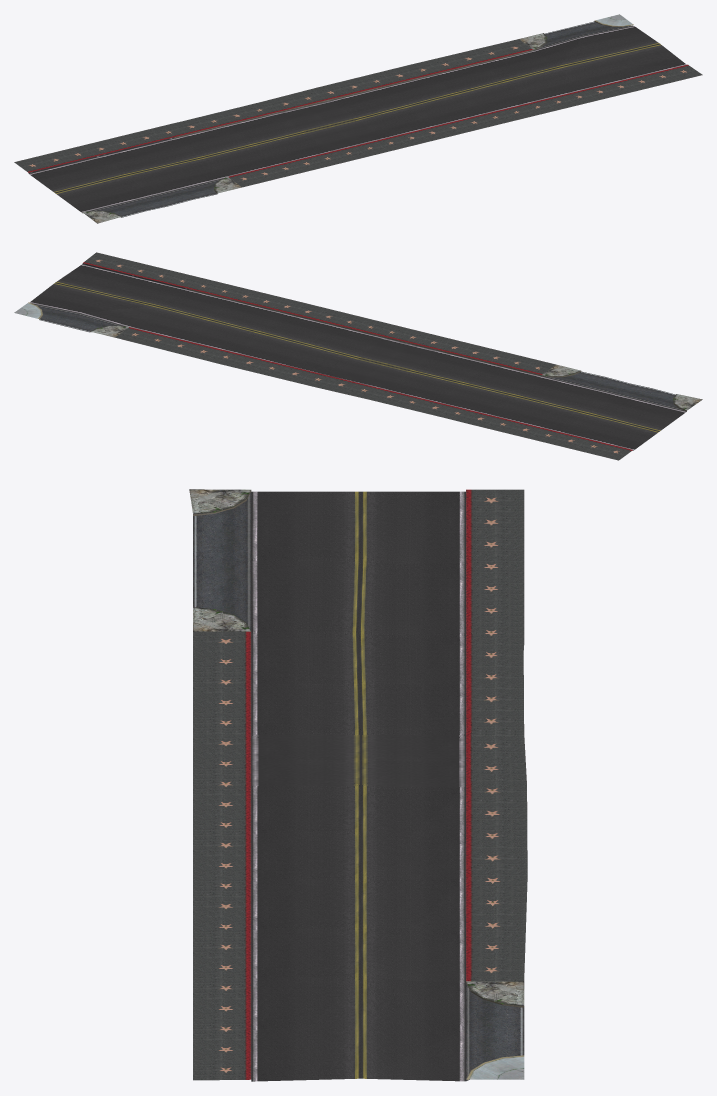
File: road_lawn19.obj
3 renders of one model, top to bottom at view 1: azimuth 30°, elevation 25°; view 2: azimuth 150°, elevation 25°; view 3: azimuth 270°, elevation 25°, orthographic. The views are drawn at different scales.
Parts seen in each view (by area): view 1: road_lawn19; view 2: road_lawn19; view 3: road_lawn19.
Part boxes in pixels (x1=…): road_lawn19: x1=14, y1=14, x2=702, y2=223; road_lawn19: x1=14, y1=252, x2=702, y2=460; road_lawn19: x1=189, y1=489, x2=527, y2=1081.
Bounding box in the file's own units: 120 × 0.6397 × 29.08.
